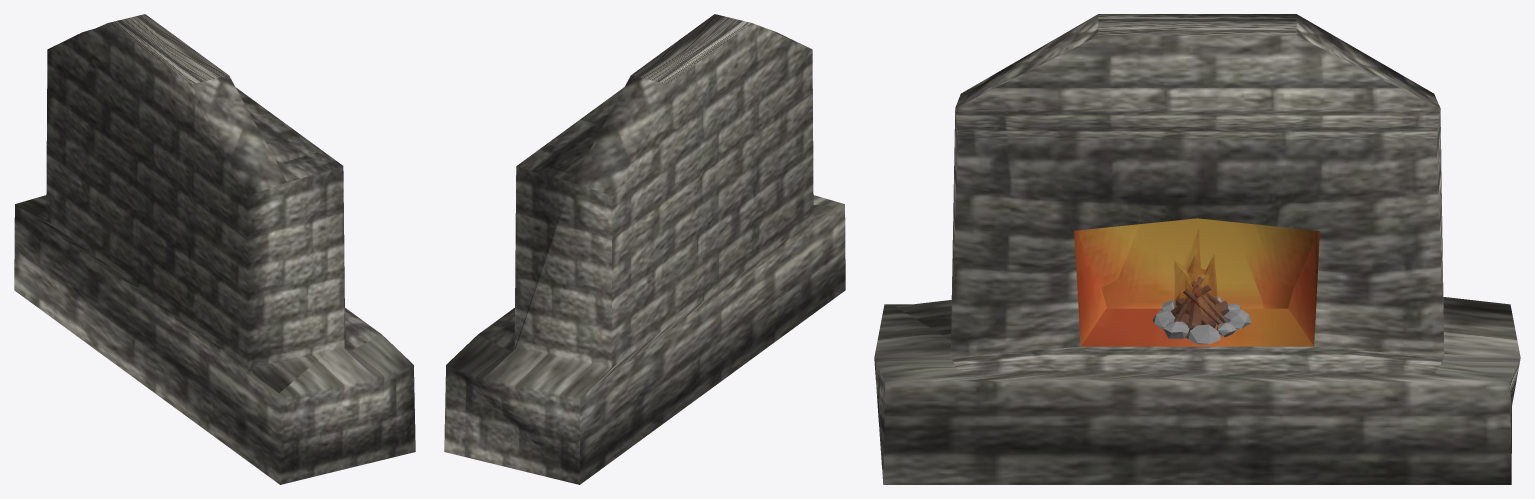
The model's file is fireplace.glb.
3 renders of one model, left to right at view 1: azimuth 30°, elevation 25°; view 2: azimuth 150°, elevation 25°; view 3: azimuth 270°, elevation 25°, orthographic. The views are drawn at different scales.
Parts seen in each view (by area): view 1: fireplace_field_stone-interior; view 2: fireplace_field_stone-interior; view 3: fireplace_field_stone-interior, fireplace_field_stone-Mat, Fire-Mat, Stones, logs.
Boxes of the visible parts, x1=… form: fireplace_field_stone-interior: x1=14, y1=14, x2=415, y2=484; fireplace_field_stone-interior: x1=444, y1=14, x2=845, y2=484; fireplace_field_stone-interior: x1=874, y1=14, x2=1520, y2=484; fireplace_field_stone-Mat: x1=1074, y1=218, x2=1319, y2=346; Fire-Mat: x1=1173, y1=230, x2=1219, y2=324; Stones: x1=1152, y1=296, x2=1251, y2=344; logs: x1=1170, y1=276, x2=1228, y2=331.
Size of the model in its own units: 1.24 by 2.92 by 4.34.
5 materials, 3 textured.
